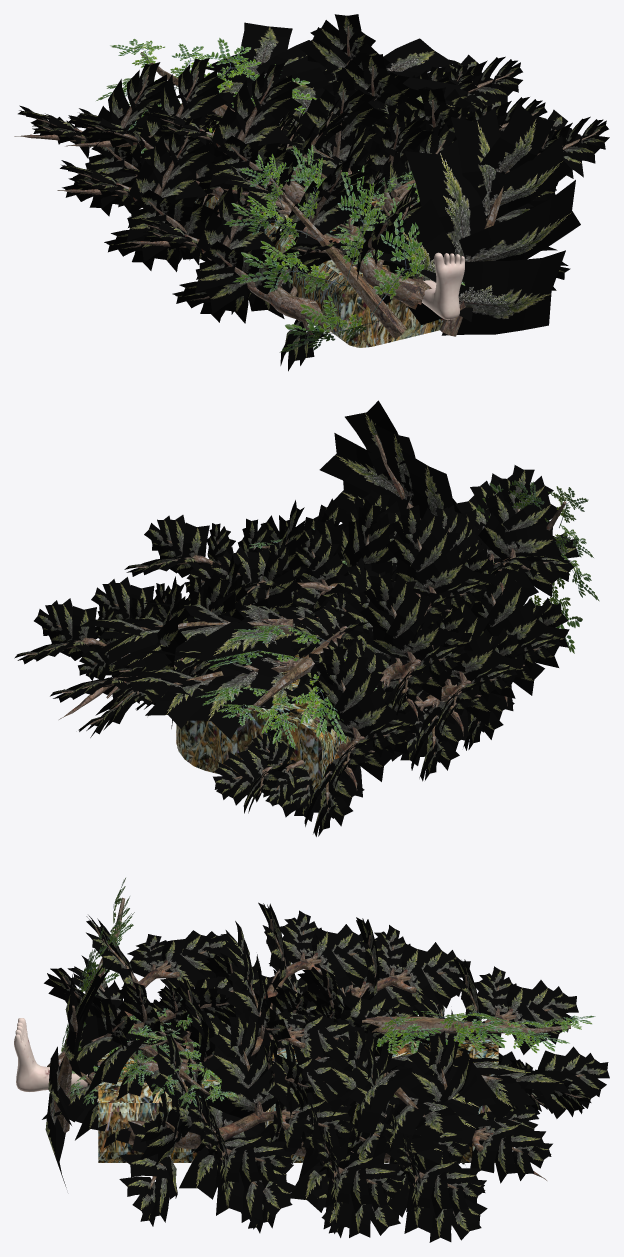
File: pie.fbx
3 renders of one model, top to bottom at view 1: azimuth 30°, elevation 25°; view 2: azimuth 150°, elevation 25°; view 3: azimuth 270°, elevation 25°, orthographic. The views are drawn at different scales.
Visible parts, largest first — view 1: Arbol.015, Arbol.014, Rama.005, Rama, Rama.002, Rama.004, Rama.001, Rama.007, Rama.006, Rama.003, Cube, Rama.009 (+6 smaller); view 2: Rama.006, Rama.003, Rama.007, Rama.002, Rama, Rama.004, Rama.001, Arbol.015, Arbol.012, Rama.009, Arbol.010, Rama.005 (+6 smaller); view 3: Rama.009, Rama.007, Rama, Rama.008, Rama.002, Rama.006, Rama.001, Rama.003, Arbol.010, Cube, Arbol.013, Arbol.015 (+8 smaller).
Part boxes in pixels (x1,y1,x2,y2): Arbol.015: [360, 103, 580, 336]; Arbol.014: [224, 145, 424, 352]; Rama.005: [125, 169, 330, 371]; Rama: [218, 124, 431, 309]; Rama.002: [140, 62, 358, 204]; Rama.004: [57, 116, 263, 317]; Rama.001: [277, 77, 455, 210]; Rama.007: [298, 14, 522, 115]; Rama.006: [14, 62, 216, 263]; Rama.003: [65, 58, 255, 211]; Cube: [194, 117, 443, 347]; Rama.009: [365, 88, 609, 290]; Rama.006: [213, 646, 418, 836]; Rama.003: [277, 572, 472, 753]; Rama.007: [14, 571, 244, 737]; Rama.002: [289, 505, 495, 658]; Rama: [391, 465, 579, 596]; Rama.004: [376, 590, 525, 781]; Rama.001: [208, 489, 399, 631]; Arbol.015: [319, 400, 481, 544]; Arbol.012: [115, 651, 302, 739]; Rama.009: [124, 498, 346, 611]; Arbol.010: [79, 603, 295, 677]; Rama.005: [418, 559, 569, 750]; Rama.009: [119, 1012, 354, 1226]; Rama.007: [310, 1031, 552, 1242]; Rama: [44, 915, 263, 1069]; Rama.008: [241, 1026, 470, 1237]; Rama.002: [182, 902, 413, 1057]; Rama.006: [412, 958, 609, 1164]; Rama.001: [138, 949, 367, 1153]; Rama.003: [277, 917, 501, 1057]; Arbol.010: [328, 1053, 495, 1158]; Cube: [98, 1040, 498, 1162]; Arbol.013: [362, 1010, 595, 1054]; Arbol.015: [45, 961, 111, 1187].
Size of the model in its own units: 3365 by 1842 by 3839.
Materials: 8 (8 with a texture image).
